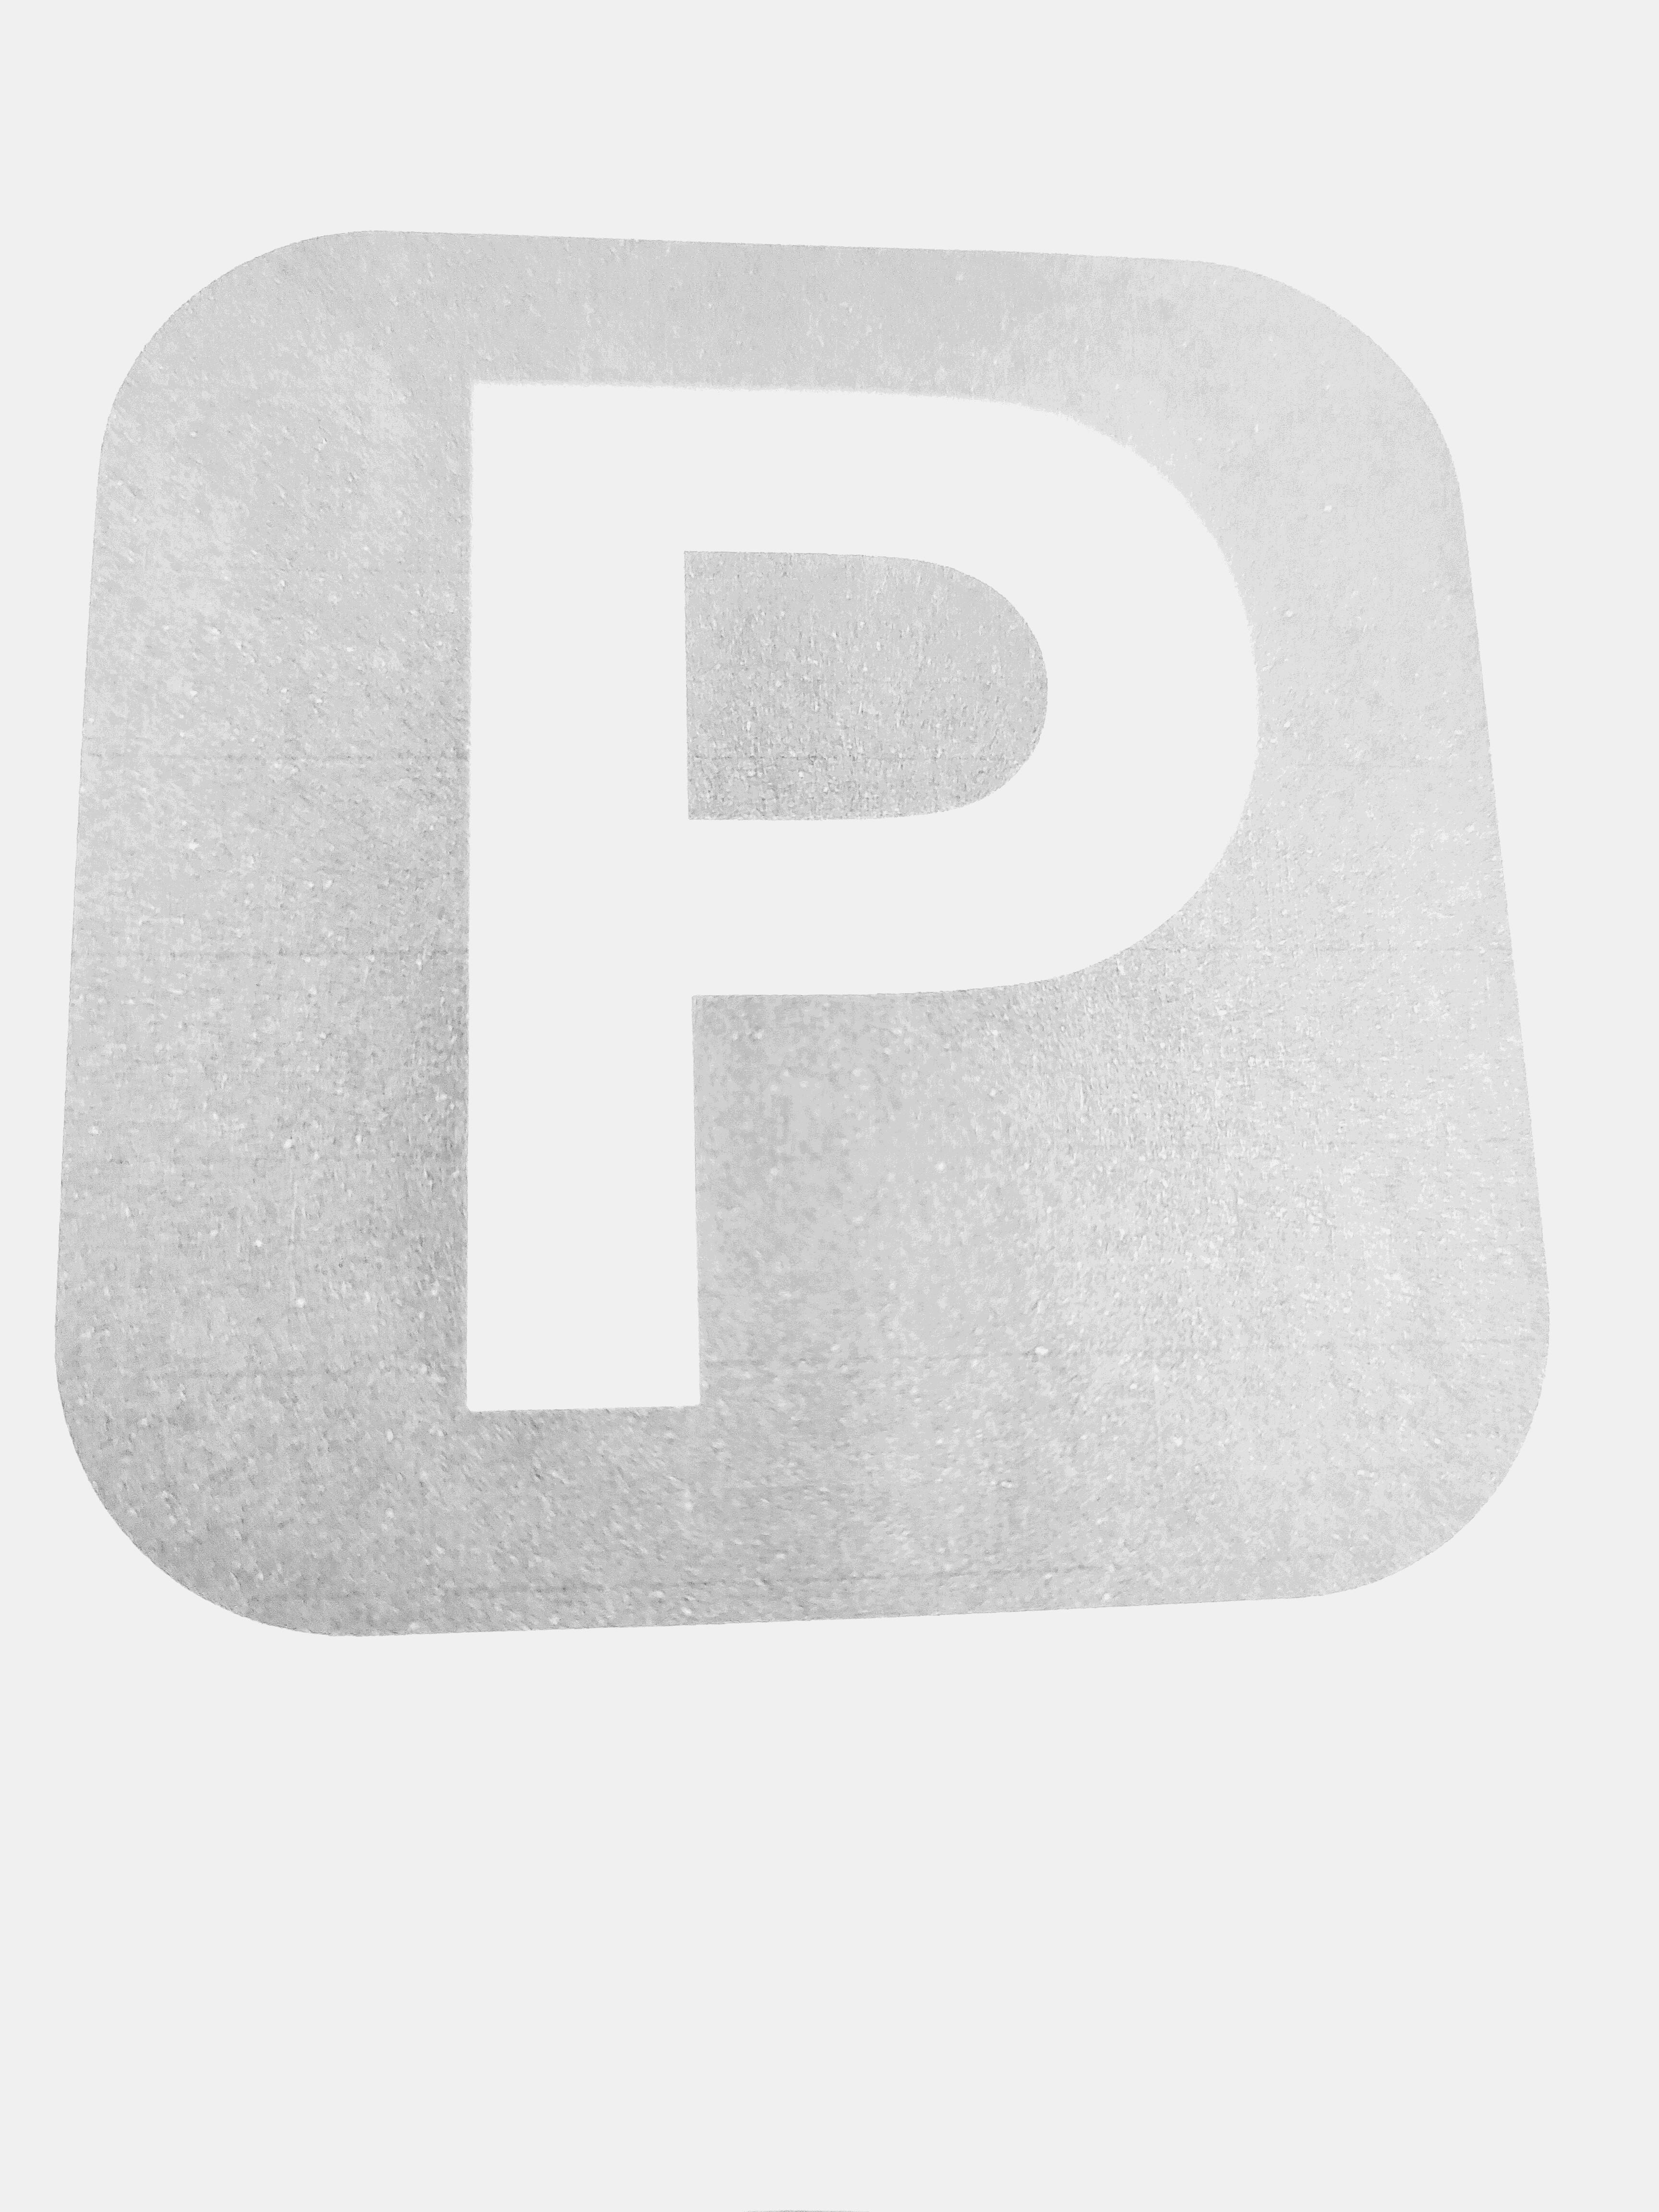parking: (63, 221, 1554, 1632)
